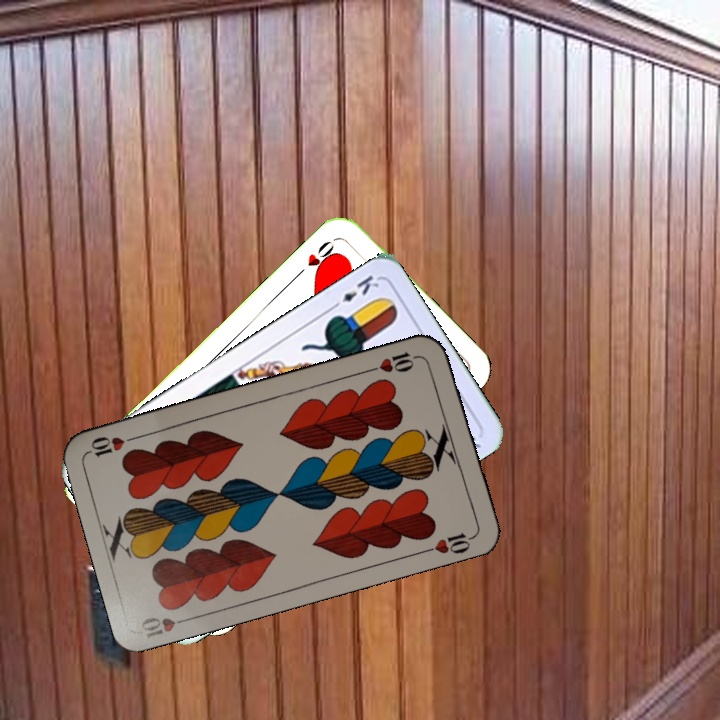EK: (326, 270, 382, 313)
H10: (137, 612, 196, 641), (365, 347, 423, 375)
HO: (292, 236, 340, 280)
